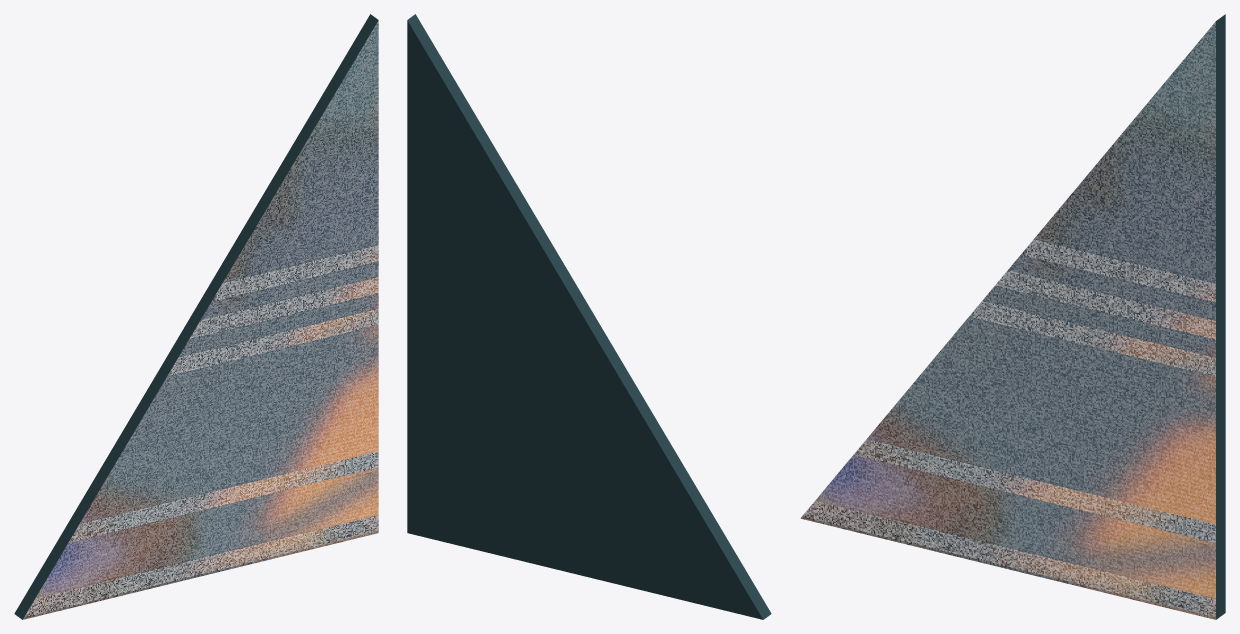
3 views of the same model, side by side, from view 1: azimuth 30°, elevation 25°; view 2: azimuth 150°, elevation 25°; view 3: azimuth 330°, elevation 25° (orthographic). The views are drawn at different scales.
Parts seen in each view (by area): view 1: Piece_06; view 2: Piece_06; view 3: Piece_06.
Boxes of the visible parts, box(x1,y1,x2,y2) form: Piece_06: box(14, 14, 378, 619); Piece_06: box(407, 14, 771, 619); Piece_06: box(800, 14, 1225, 619).
Bounding box in the file's own units: 0.618 × 0.8507 × 0.025.
Materials: 2 (1 with a texture image).
